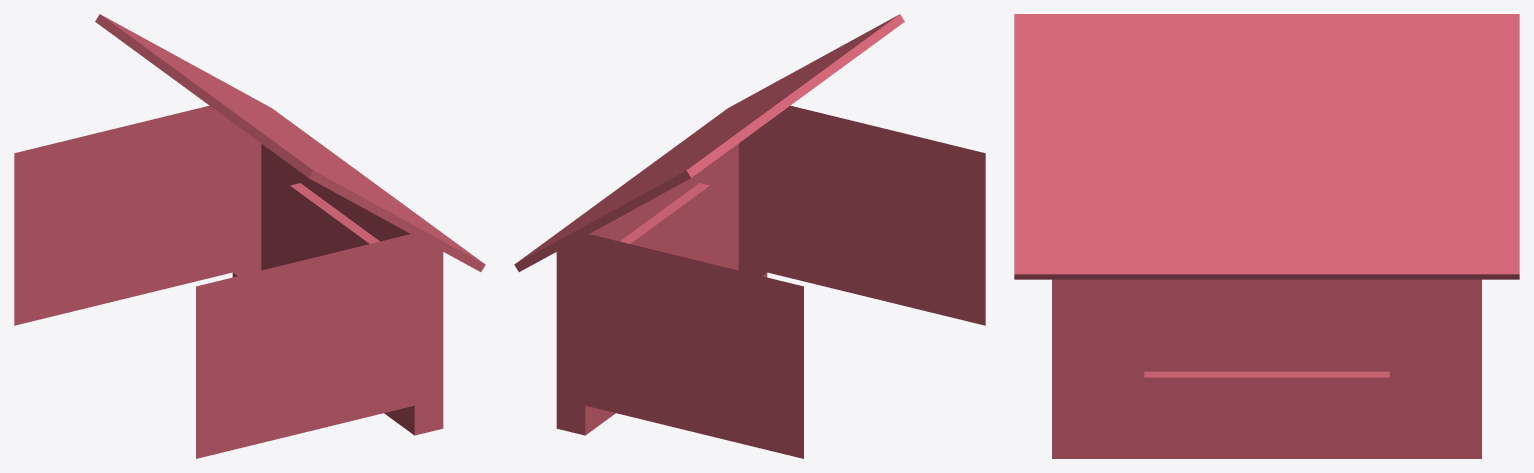
File: House.glb
The picture shows the model from 3 angles, left to right: view 1: azimuth 30°, elevation 25°; view 2: azimuth 150°, elevation 25°; view 3: azimuth 270°, elevation 25°; orthographic projection. The views are drawn at different scales.
Parts seen in each view (by area): view 1: Cube.003, Cube, Cube.001, Cube.002; view 2: Cube.003, Cube, Cube.001, Cube.002; view 3: Cube, Cube.003, Cube.001, Cube.002.
Boxes of the visible parts, x1,y1,x2,y2 form: Cube.003: (14, 105, 443, 458); Cube: (95, 14, 485, 271); Cube.001: (290, 186, 369, 261); Cube.002: (232, 265, 443, 435); Cube.003: (556, 105, 985, 458); Cube: (514, 14, 904, 271); Cube.001: (630, 186, 709, 261); Cube.002: (556, 265, 767, 435); Cube: (1014, 14, 1519, 279); Cube.003: (1052, 279, 1481, 423); Cube.001: (1144, 292, 1389, 371); Cube.002: (1052, 423, 1481, 458).
Bounding box in the file's own units: 19.12 × 20.38 × 25.84.
